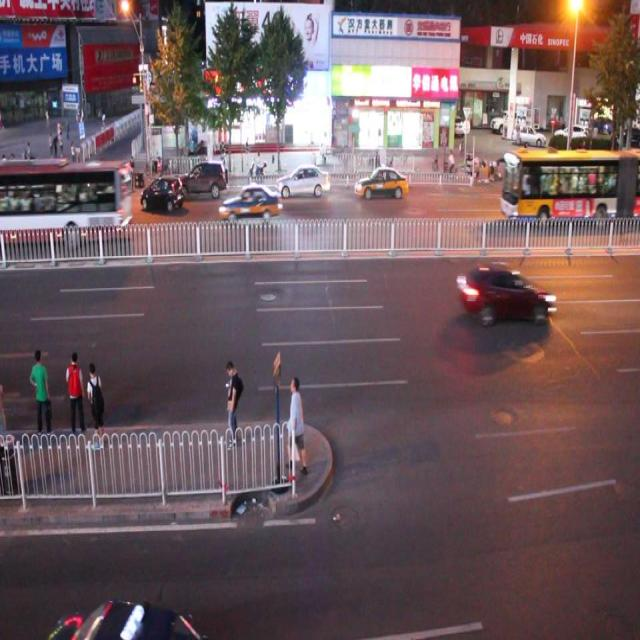car: (1, 154, 132, 245), (42, 596, 226, 640), (456, 261, 555, 327), (219, 184, 280, 220), (353, 165, 408, 202), (178, 159, 228, 198), (276, 164, 329, 200), (41, 189, 98, 222), (141, 173, 183, 212), (1, 176, 14, 208)
van: (498, 145, 640, 227)
